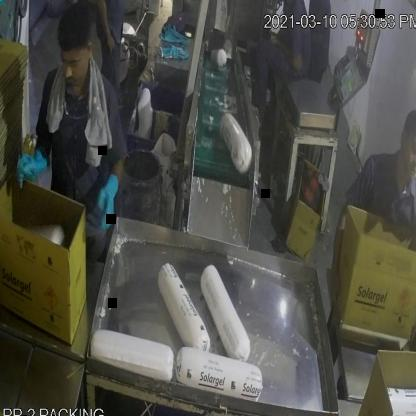glove: (9, 133, 53, 196), (95, 158, 125, 236)
no_glove: (328, 190, 353, 323), (91, 0, 122, 59)
